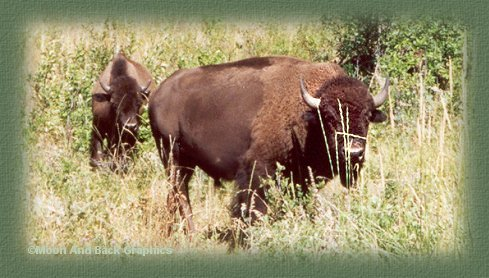zubr: (140, 40, 408, 218)
